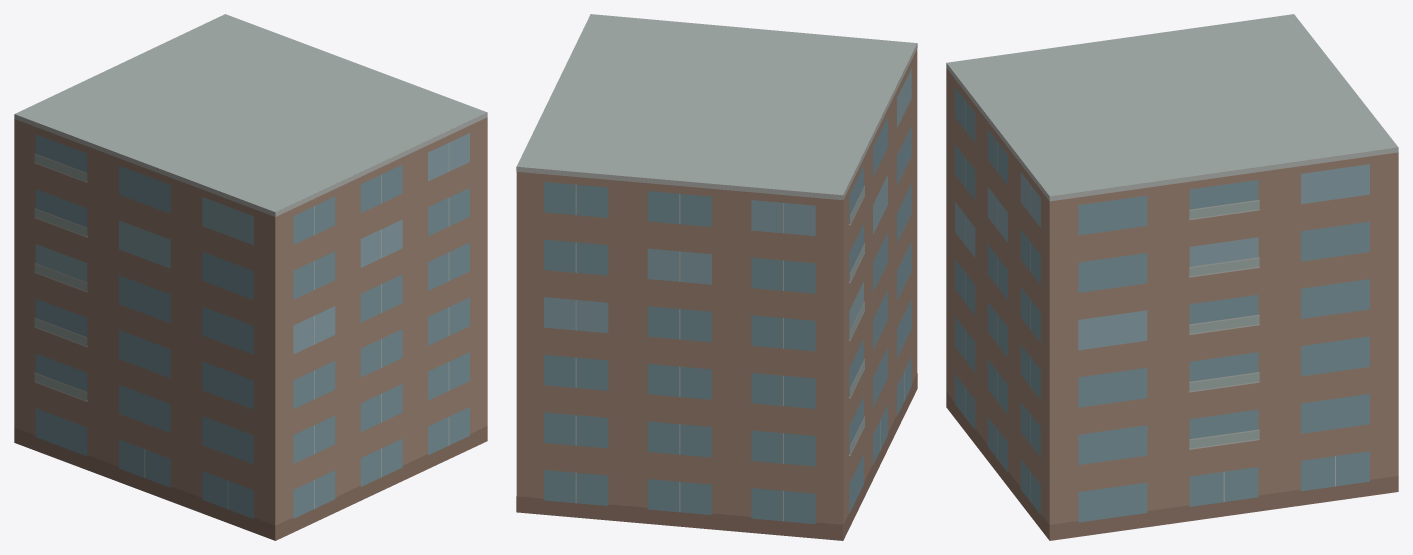
Rendered from survey-upis-32985512.glb.
The picture shows the model from 3 angles, left to right: view 1: azimuth 30°, elevation 25°; view 2: azimuth 150°, elevation 25°; view 3: azimuth 270°, elevation 25°; orthographic projection. The views are drawn at different scales.
Parts seen in each view (by area): view 1: survey-upis-32985512.tmp; view 2: survey-upis-32985512.tmp; view 3: survey-upis-32985512.tmp.
Boxes of the visible parts, <box> form: survey-upis-32985512.tmp: <box>14,14,487,540</box>; survey-upis-32985512.tmp: <box>516,14,917,540</box>; survey-upis-32985512.tmp: <box>946,14,1398,540</box>.
Bounding box in the file's own units: 19.09 × 16.8 × 20.
